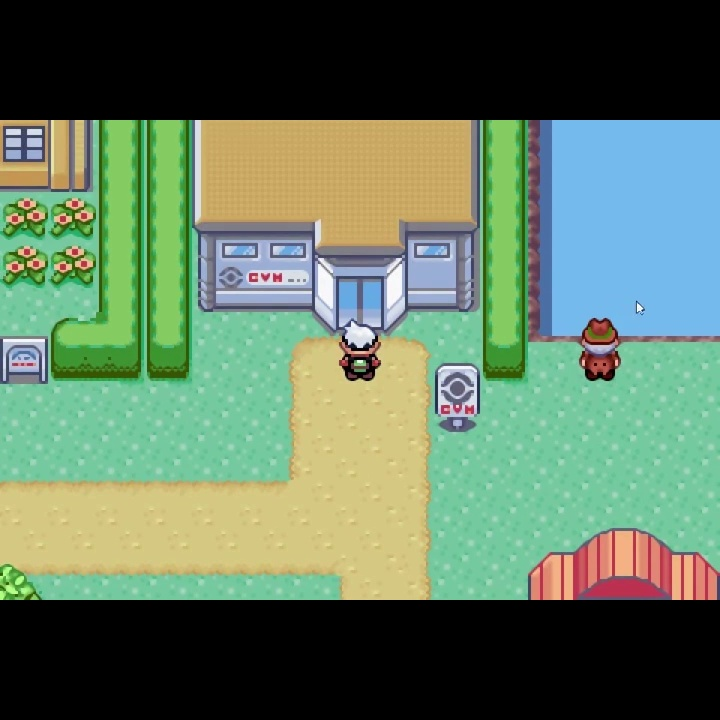gym: (190, 121, 481, 336)
npc: (574, 314, 625, 388), (338, 317, 384, 386)
pokecen: (526, 527, 720, 600)
wall: (1, 563, 43, 600)
